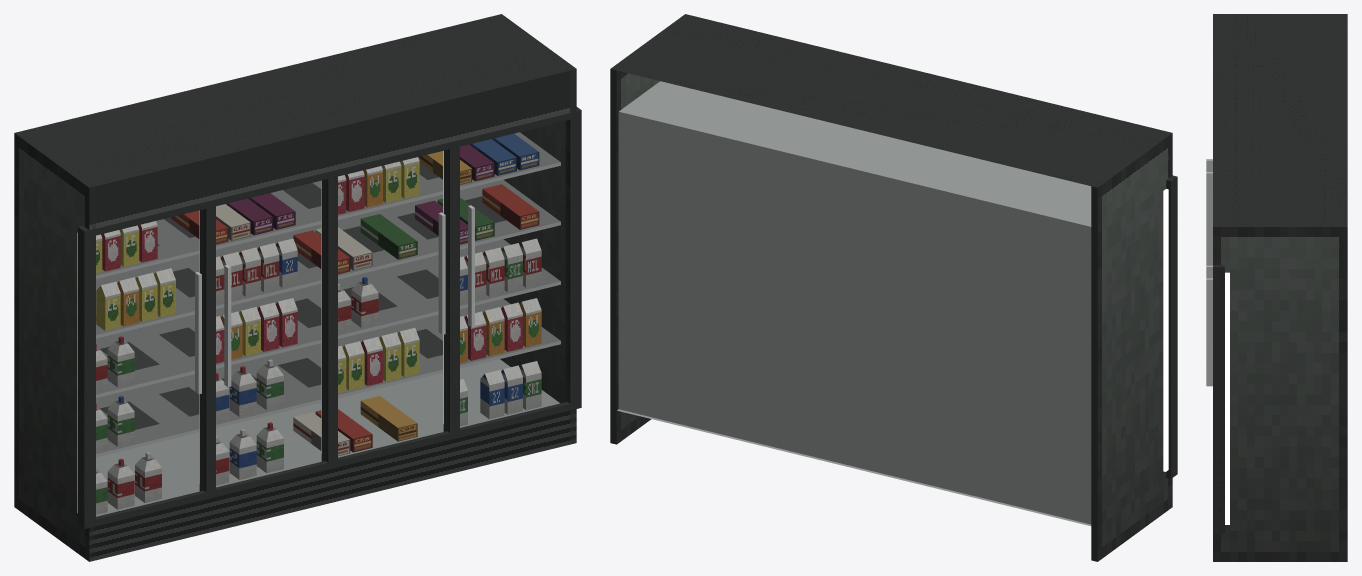
Rendered from wall_cooler.glb.
The picture shows the model from 3 angles, left to right: view 1: azimuth 30°, elevation 25°; view 2: azimuth 150°, elevation 25°; view 3: azimuth 270°, elevation 25°; orthographic projection. The views are drawn at different scales.
Visible parts, largest first — view 1: WallCooler; view 2: WallCooler; view 3: WallCooler.
Part boxes in pixels (x1,y1,x2,y2): WallCooler: [14, 14, 581, 561]; WallCooler: [610, 14, 1177, 561]; WallCooler: [1206, 14, 1347, 561].
Size of what is drawn, in the model's own units: 3.06 by 2.2 by 0.84.
4 materials, 2 textured.
